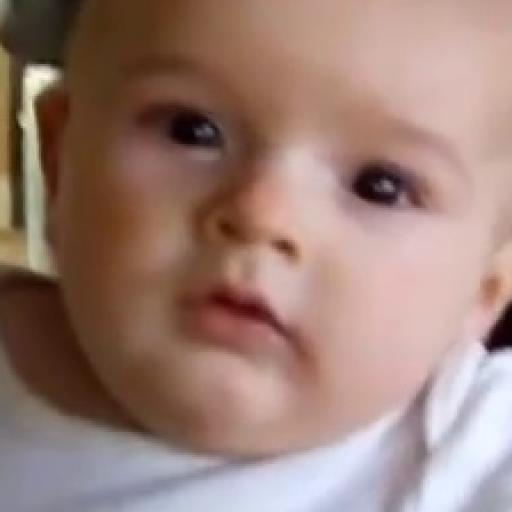Autism: (14, 22, 500, 493)
